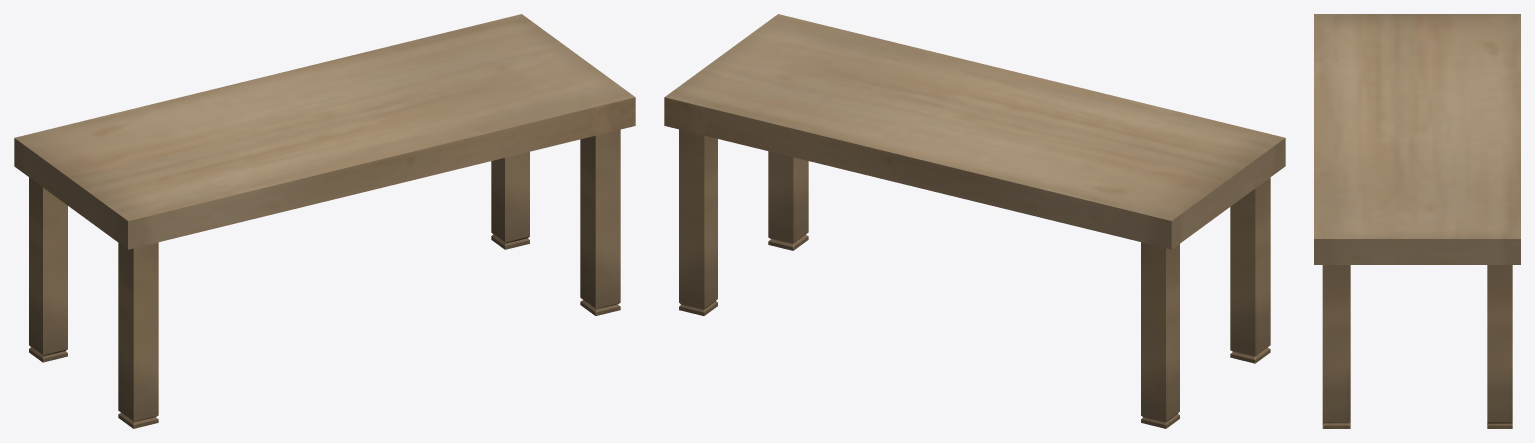
The model's file is basictable.glb.
The picture shows the model from 3 angles, left to right: view 1: azimuth 30°, elevation 25°; view 2: azimuth 150°, elevation 25°; view 3: azimuth 270°, elevation 25°; orthographic projection. The views are drawn at different scales.
Parts seen in each view (by area): view 1: Cube.001; view 2: Cube.001; view 3: Cube.001.
Part boxes in pixels (x1,y1,x2,y2): Cube.001: (14, 14, 635, 428); Cube.001: (664, 14, 1285, 428); Cube.001: (1314, 14, 1520, 428).
Size of what is drawn, in the model's own units: 2.37 by 0.9549 by 0.9214.
Materials: 1 (1 with a texture image).
